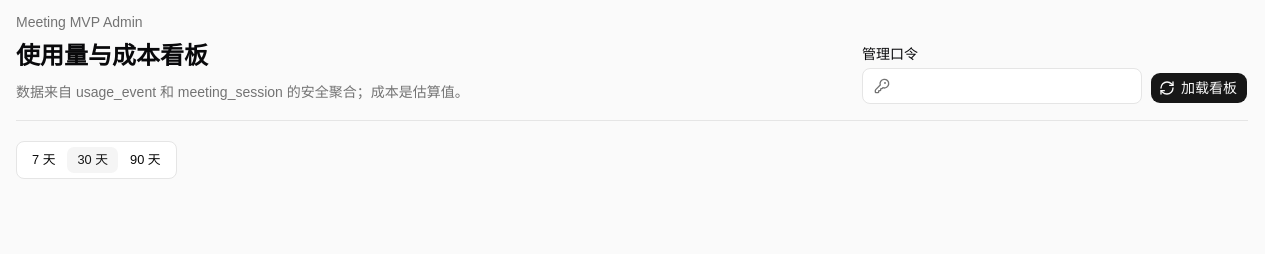
UsageDashboardPage › shows accessible guidance for auth, missing config, and network errors
The width and height of the screenshot is (1265, 254).
Type "wrong" into the password field labelled "管理口令" at (1002, 86), box [862,68,1142,104]
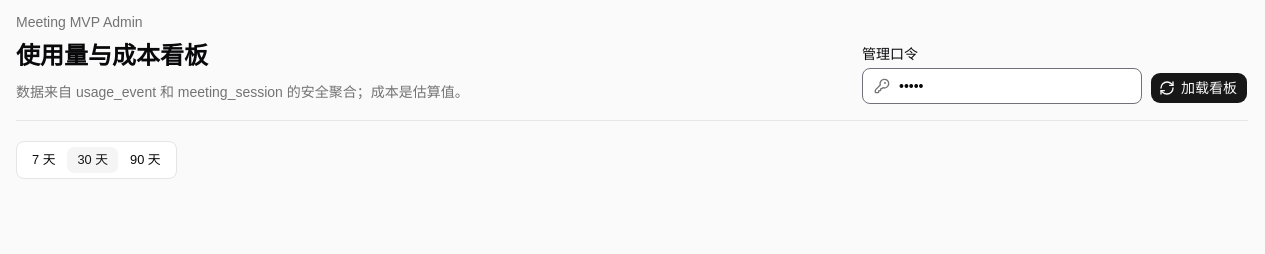
Click the button "加载看板" at (1199, 88), box [1150,72,1248,104]
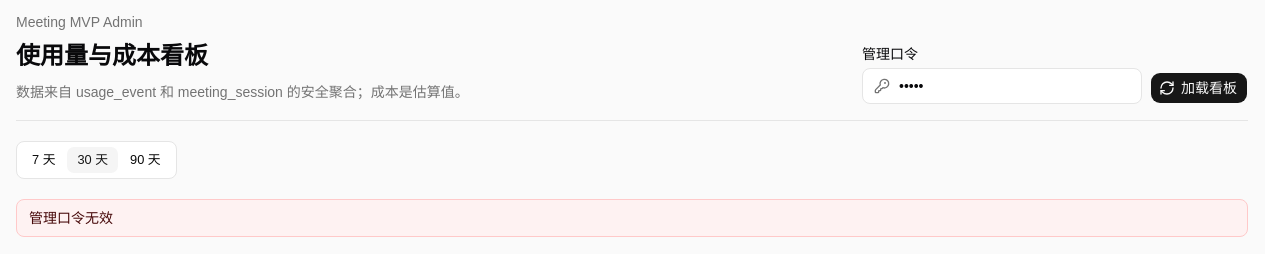
Now the message reads "管理口令无效", box [29,210,113,226]
Click the button "加载看板" at (1199, 88), box [1150,72,1248,104]
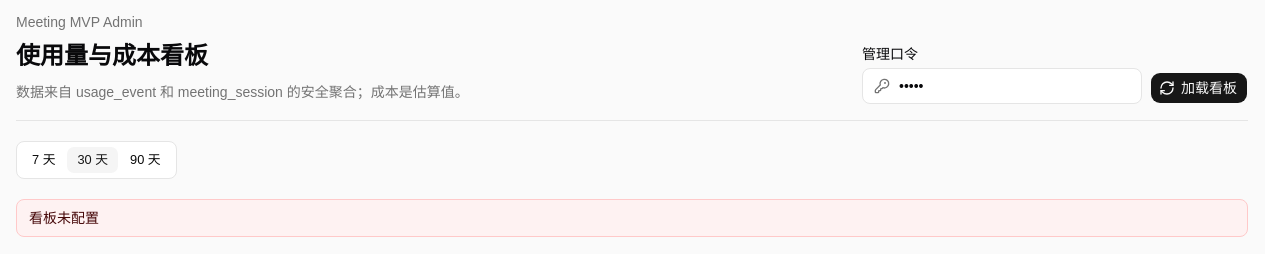
Now the message reads "看板未配置", box [29,210,99,226]
Click the button "加载看板" at (1199, 88), box [1150,72,1248,104]
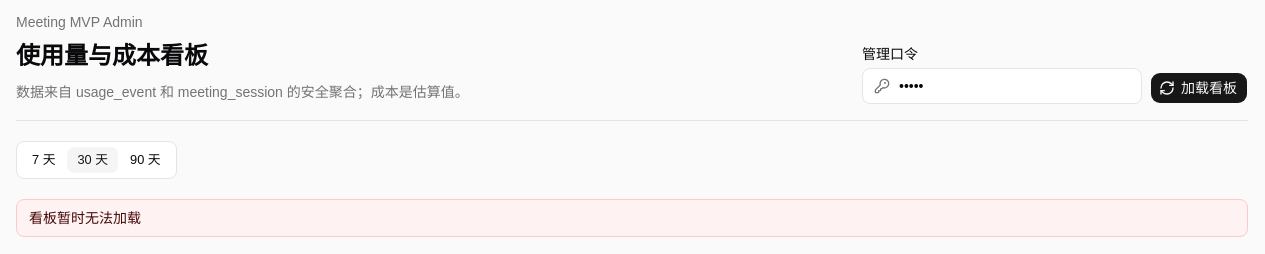
Now the message reads "看板暂时无法加载", box [29,210,141,226]
